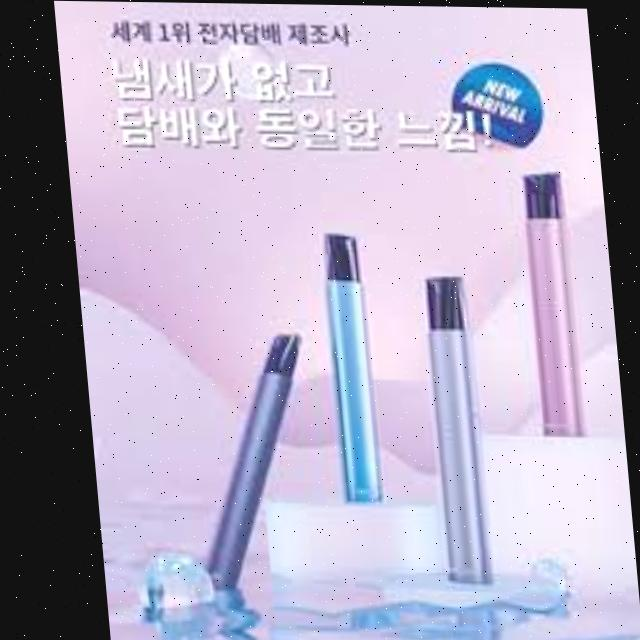vape: (175, 330, 313, 593), (417, 271, 484, 583), (513, 169, 580, 437), (317, 234, 372, 501)
